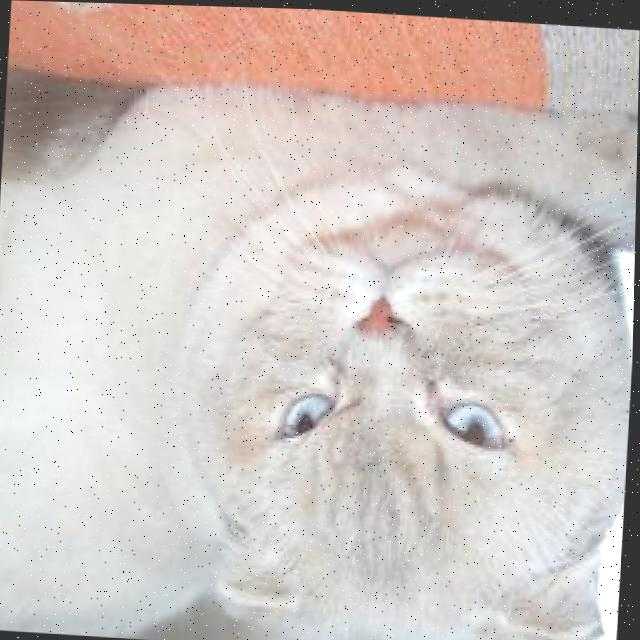Scottish Fold: (0, 67, 639, 640)
